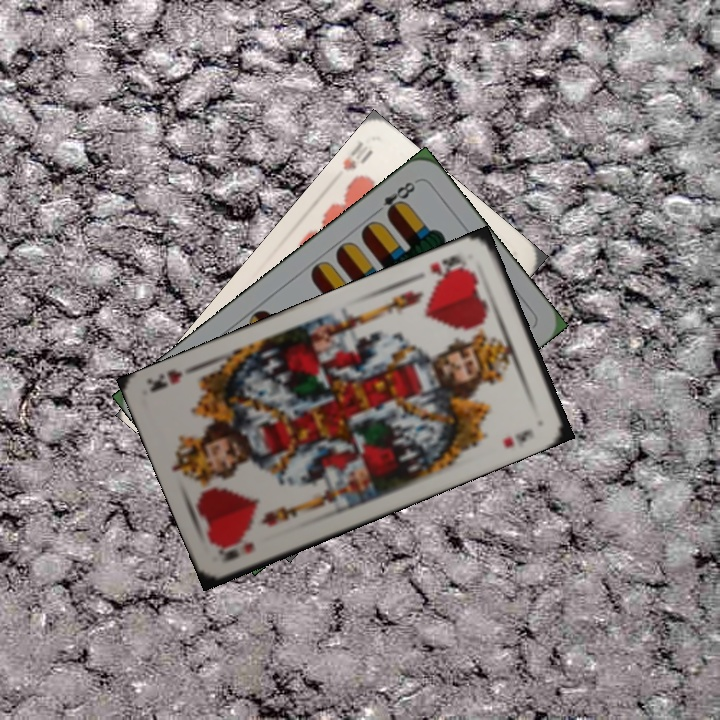E8: (369, 177, 418, 220)
H10: (338, 137, 376, 173)
HK: (425, 251, 472, 284), (215, 537, 257, 564)
